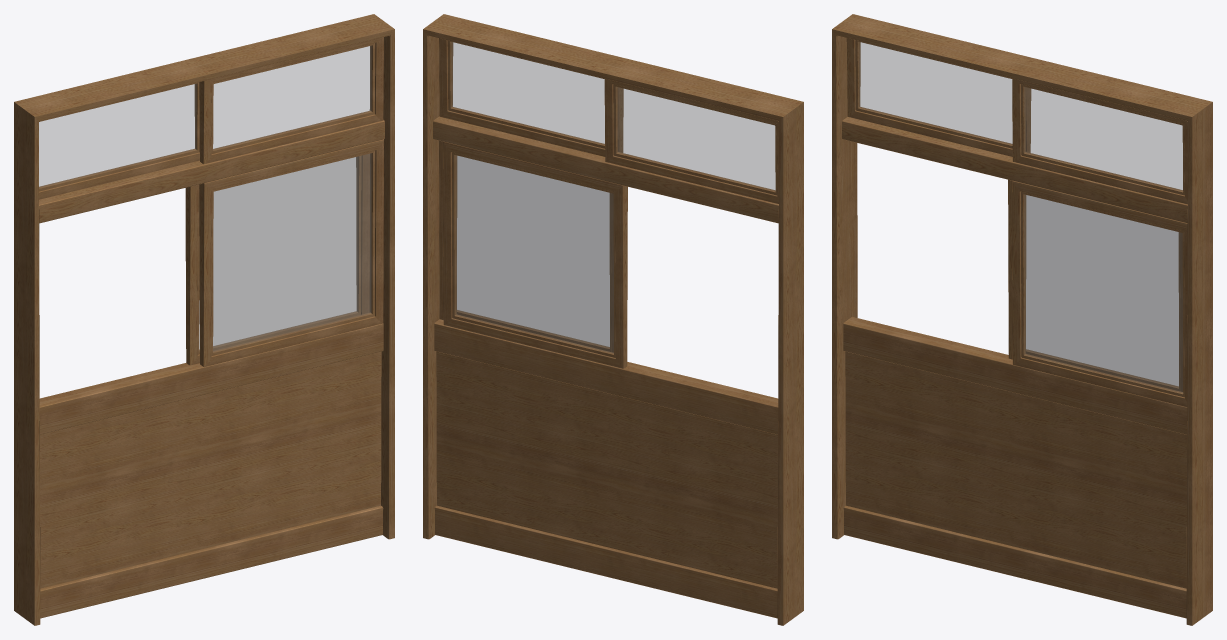
The model's file is Partition_02_Opened.FBX.
The picture shows the model from 3 angles, left to right: view 1: azimuth 30°, elevation 25°; view 2: azimuth 150°, elevation 25°; view 3: azimuth 330°, elevation 25°; orthographic projection.
Parts seen in each view (by area): view 1: Partition_02_Opened; view 2: Partition_02_Opened; view 3: Partition_02_Opened.
Part boxes in pixels (left/top/right/bottom): Partition_02_Opened: left=14, top=14, right=394, bottom=625; Partition_02_Opened: left=423, top=14, right=803, bottom=625; Partition_02_Opened: left=832, top=14, right=1212, bottom=625.
Size of the model in its own units: 200 by 270 by 20.
